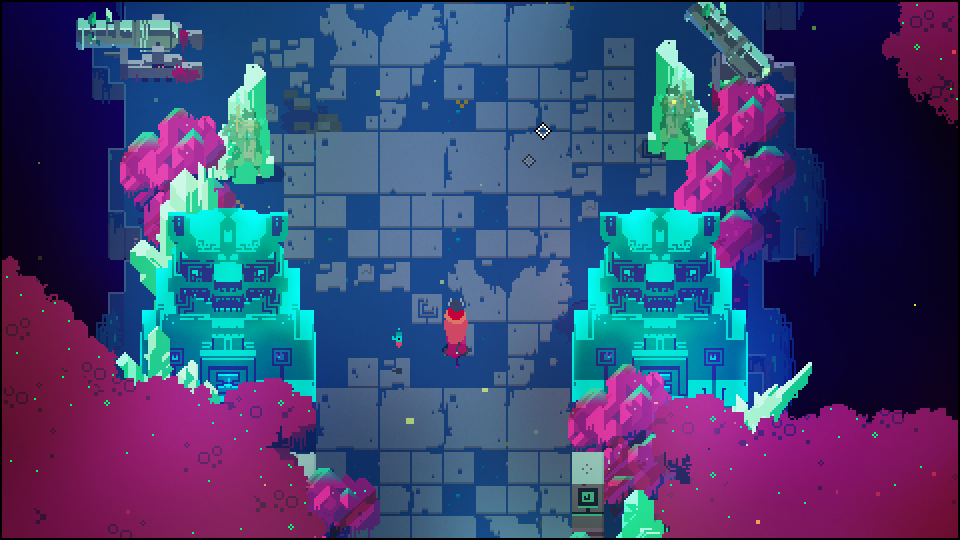player: (440, 293, 471, 351)
